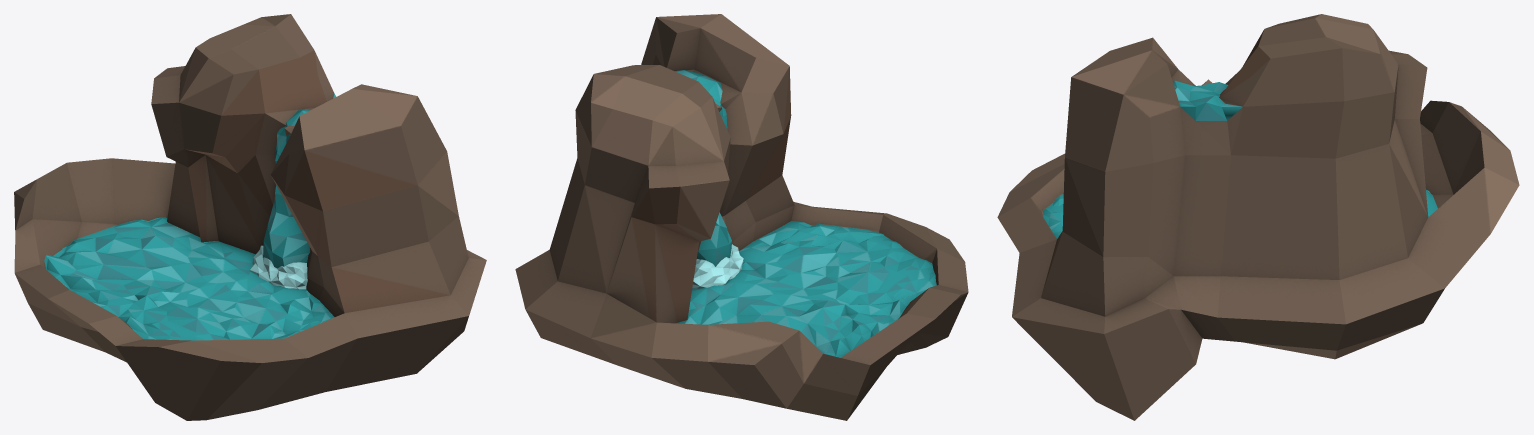
Rendered from waterfall.glb.
The picture shows the model from 3 angles, left to right: view 1: azimuth 30°, elevation 25°; view 2: azimuth 150°, elevation 25°; view 3: azimuth 270°, elevation 25°; orthographic projection. The views are drawn at different scales.
Parts seen in each view (by area): view 1: Waterfall_mesh; view 2: Waterfall_mesh; view 3: Waterfall_mesh.
Boxes of the visible parts, <box> form: Waterfall_mesh: <box>14,14,486,420</box>; Waterfall_mesh: <box>515,14,968,420</box>; Waterfall_mesh: <box>997,14,1519,420</box>.
Bounding box in the file's own units: 35.57 × 26.08 × 36.16.
1 material, 1 textured.
